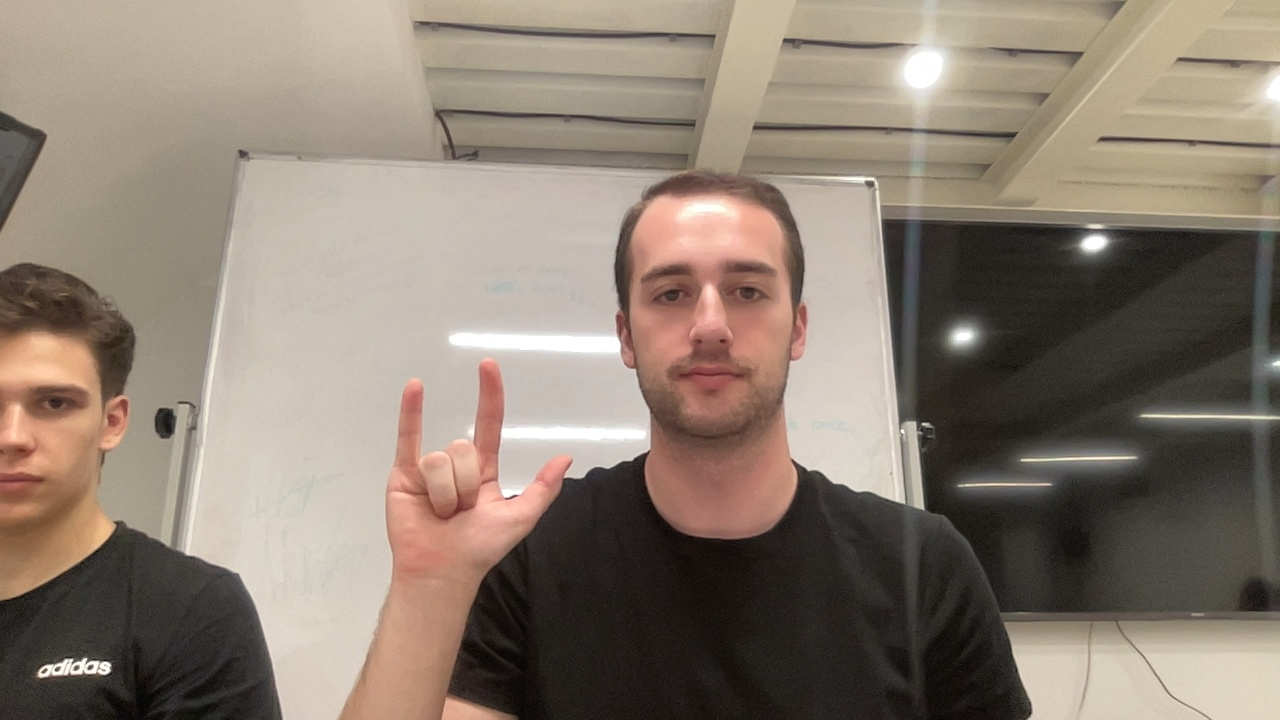I Love You: (382, 351, 578, 591)
